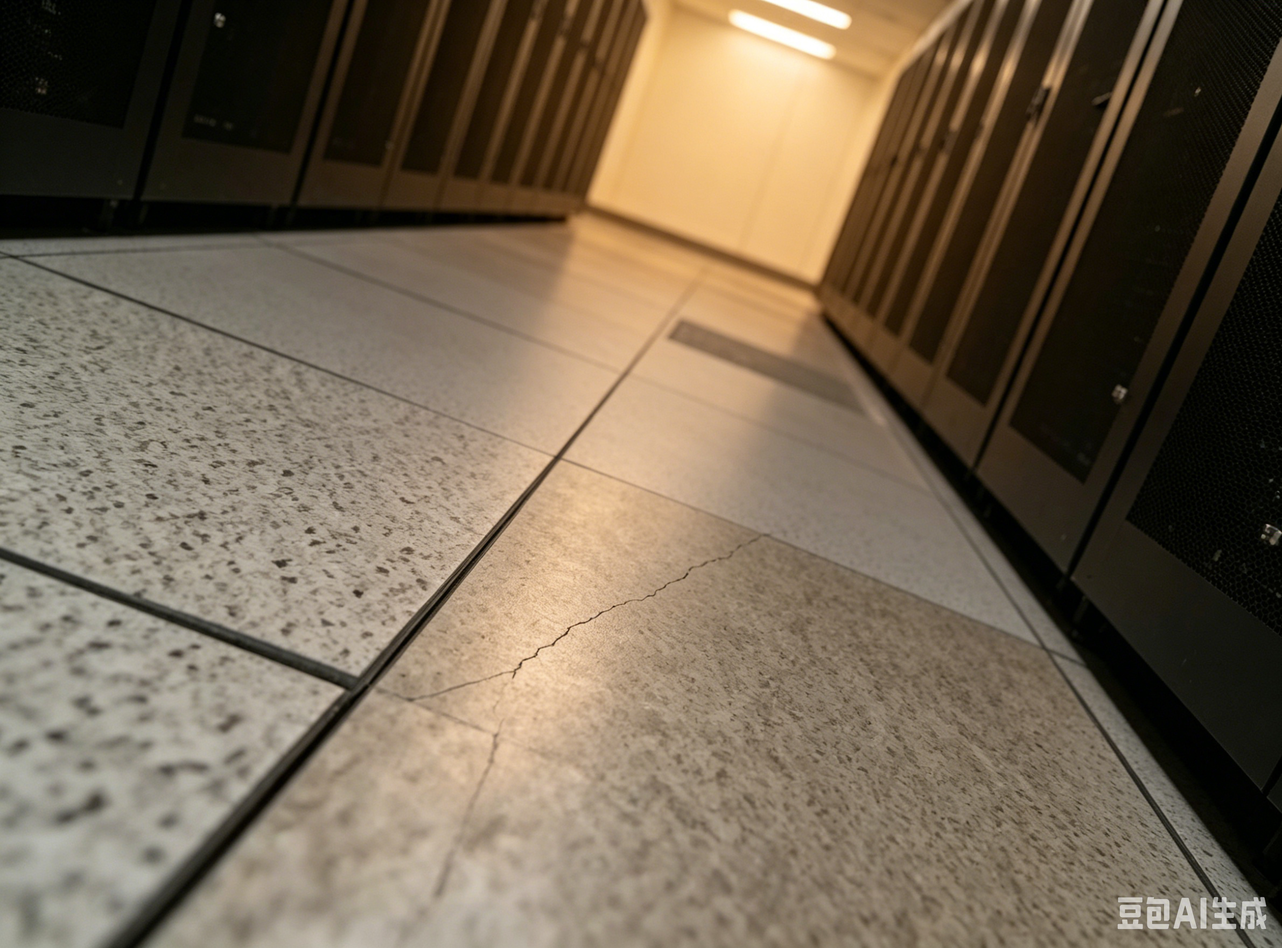floor_defect: (15, 546, 368, 716), (359, 544, 558, 697), (555, 574, 721, 632), (663, 534, 785, 587)
